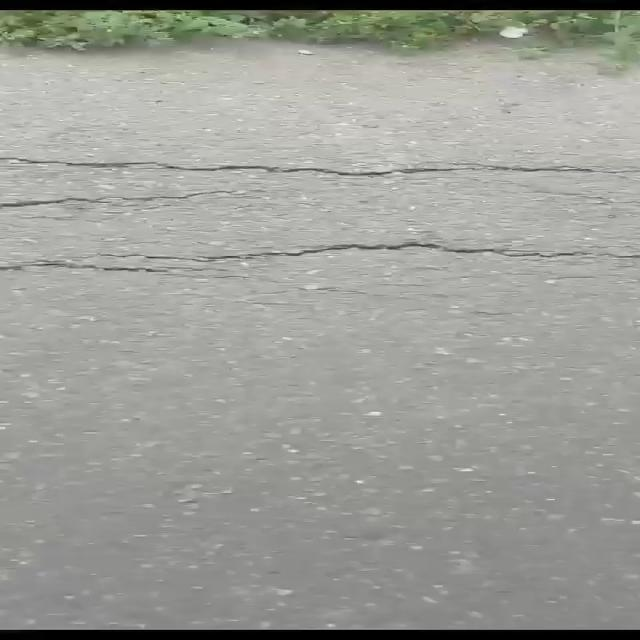Melintang: (0, 231, 640, 286), (0, 145, 640, 186)
